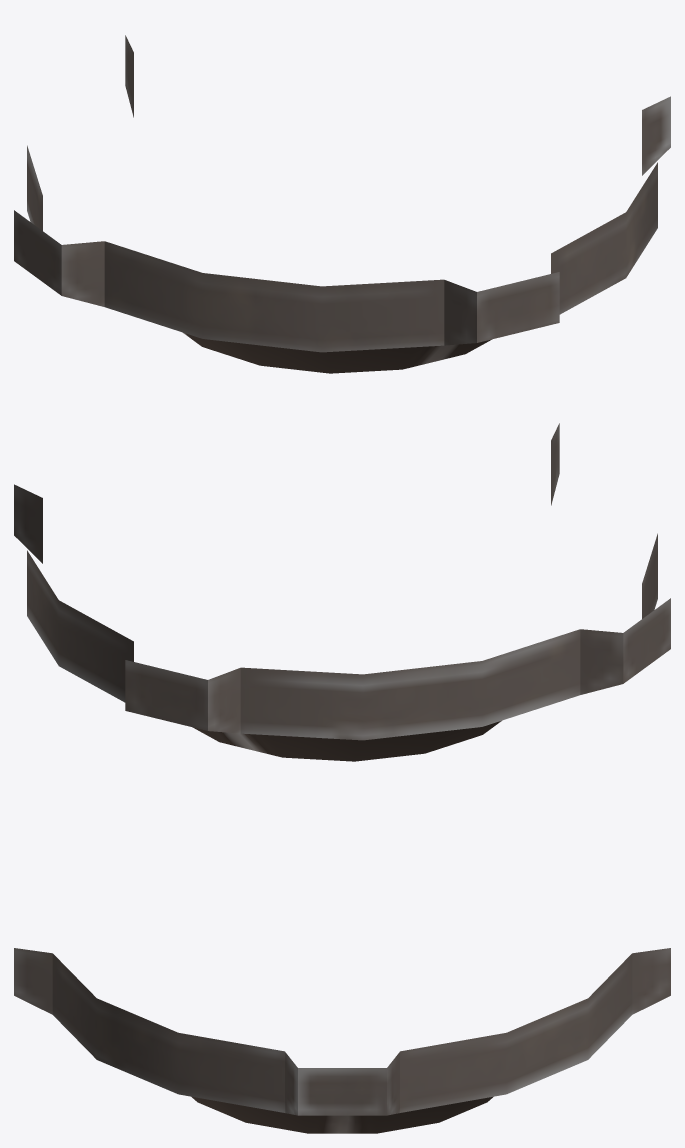
Rendered from SM_Props_Light_03.glb.
3 renders of one model, top to bottom at view 1: azimuth 30°, elevation 25°; view 2: azimuth 150°, elevation 25°; view 3: azimuth 270°, elevation 25°, orthographic. The views are drawn at different scales.
Parts seen in each view (by area): view 1: SM_Props_Light_03; view 2: SM_Props_Light_03; view 3: SM_Props_Light_03.
Boxes of the visible parts, bbox=[...] form: SM_Props_Light_03: bbox=[14, 35, 670, 373]; SM_Props_Light_03: bbox=[14, 423, 670, 761]; SM_Props_Light_03: bbox=[14, 948, 670, 1133].
Bounding box in the file's own units: 0.2484 × 0.0768 × 0.2484.
1 material, 1 textured.
